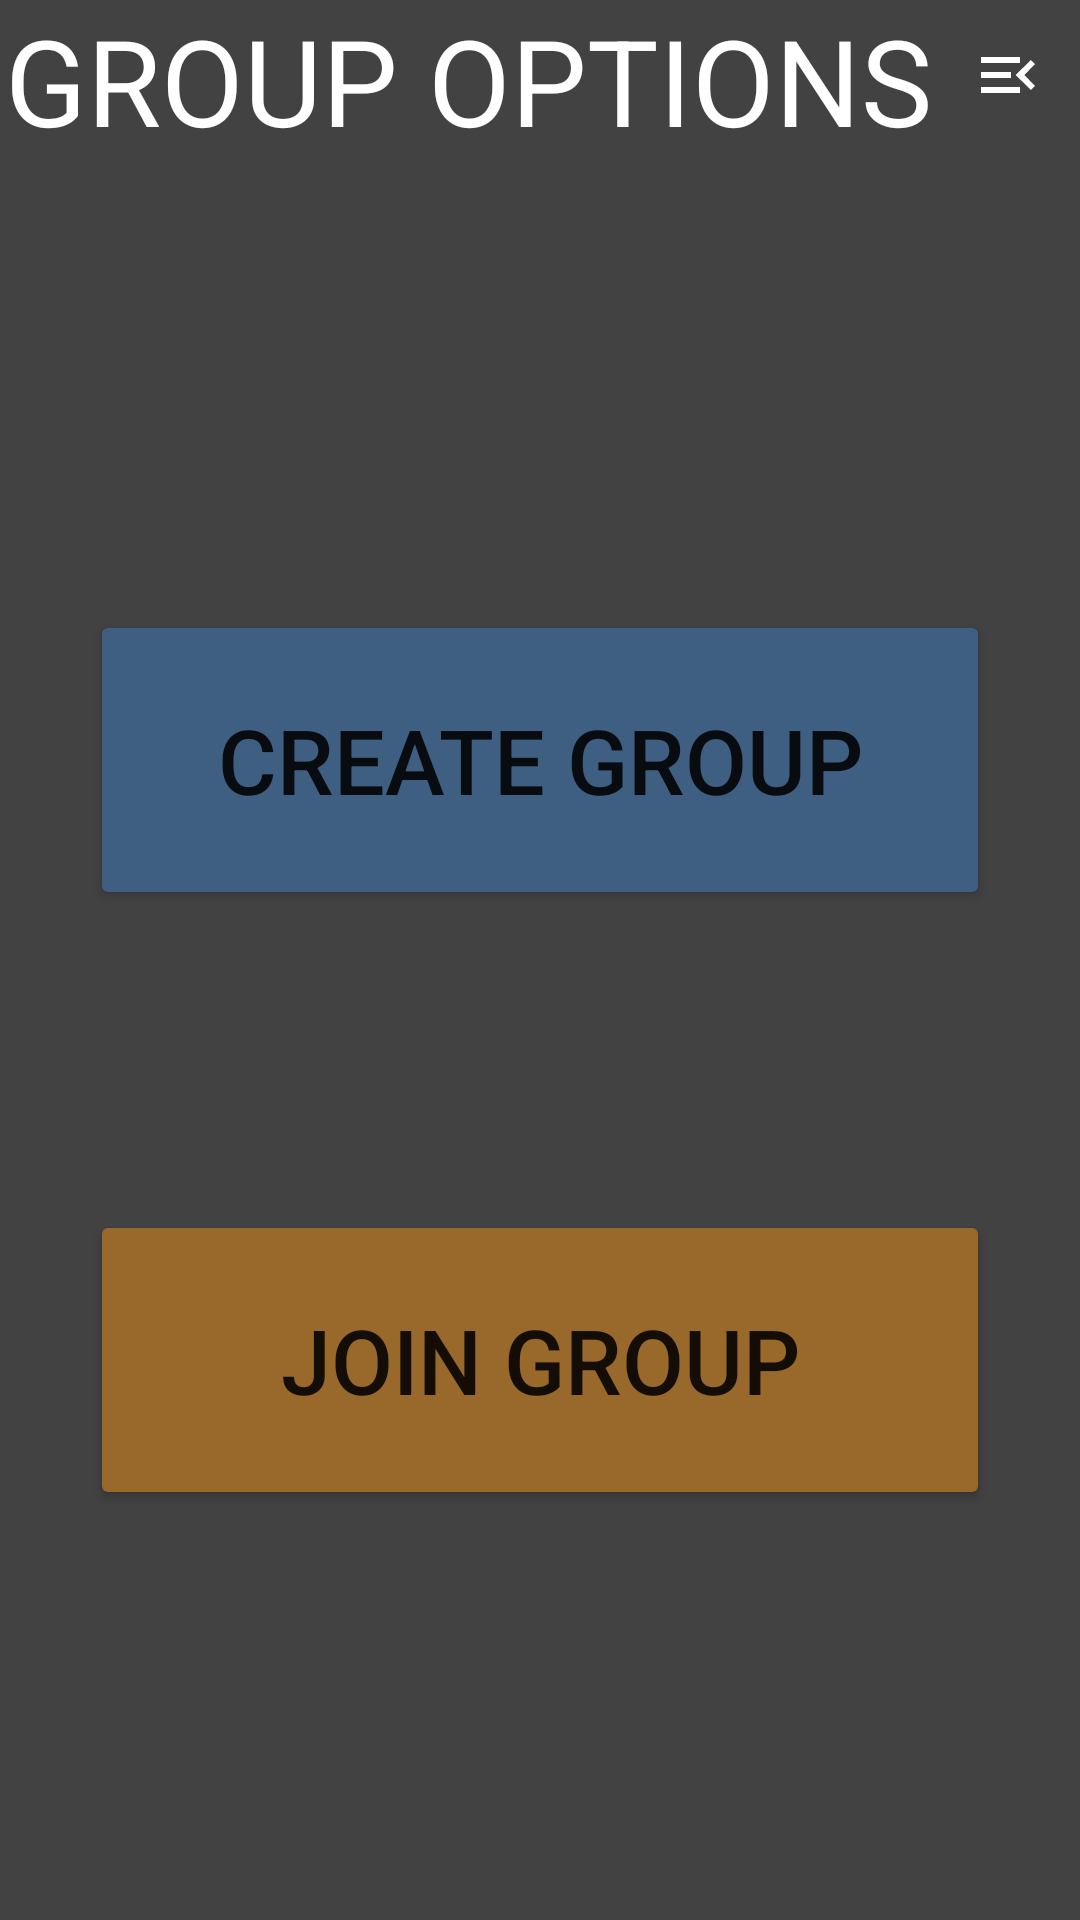

Named icons in this screenshot (1080×1920) and their bounding boxes, bbox(x1, y1, x2, y2):
menu: bbox(981, 57, 1035, 93)
